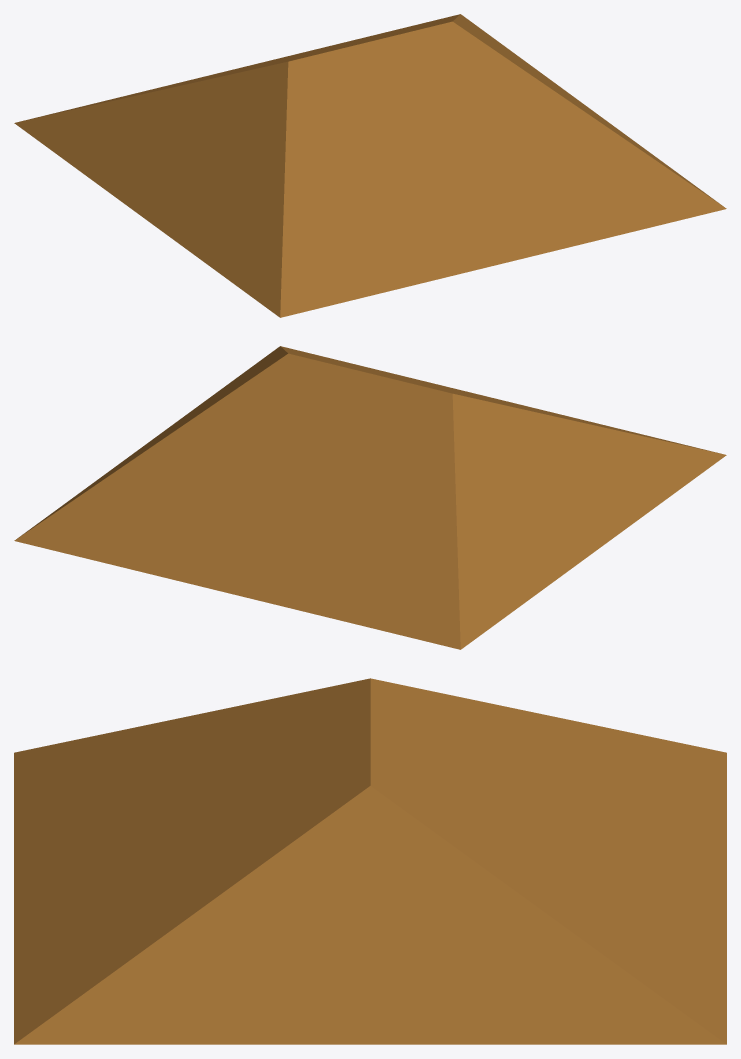
Rendered from Tropical_PavilionRoof_Simple.glb.
3 views of the same model, one above another, from view 1: azimuth 30°, elevation 25°; view 2: azimuth 150°, elevation 25°; view 3: azimuth 270°, elevation 25° (orthographic). The views are drawn at different scales.
Visible parts, largest first — view 1: Tropical_PavilionRoof_Simple; view 2: Tropical_PavilionRoof_Simple; view 3: Tropical_PavilionRoof_Simple.
Part boxes in pixels (box(x1,y1,x2,y2)): Tropical_PavilionRoof_Simple: box(14, 14, 726, 317); Tropical_PavilionRoof_Simple: box(14, 346, 726, 649); Tropical_PavilionRoof_Simple: box(14, 678, 726, 1044).
Bounding box in the file's own units: 6.2 × 1.7 × 6.4.
